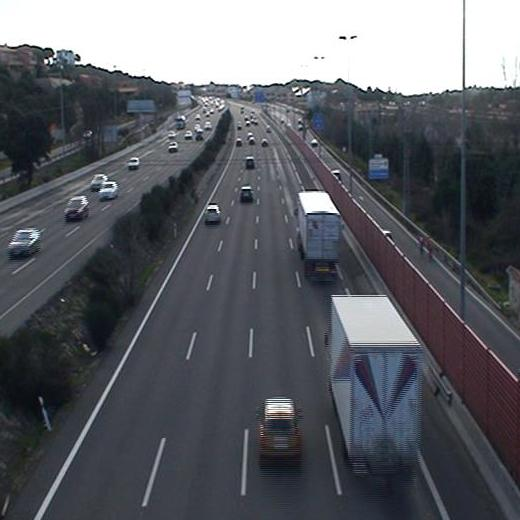car: (260, 400, 301, 461), (205, 203, 221, 223), (238, 185, 253, 203), (245, 156, 255, 169)
truck: (329, 295, 420, 485), (296, 192, 343, 277)
